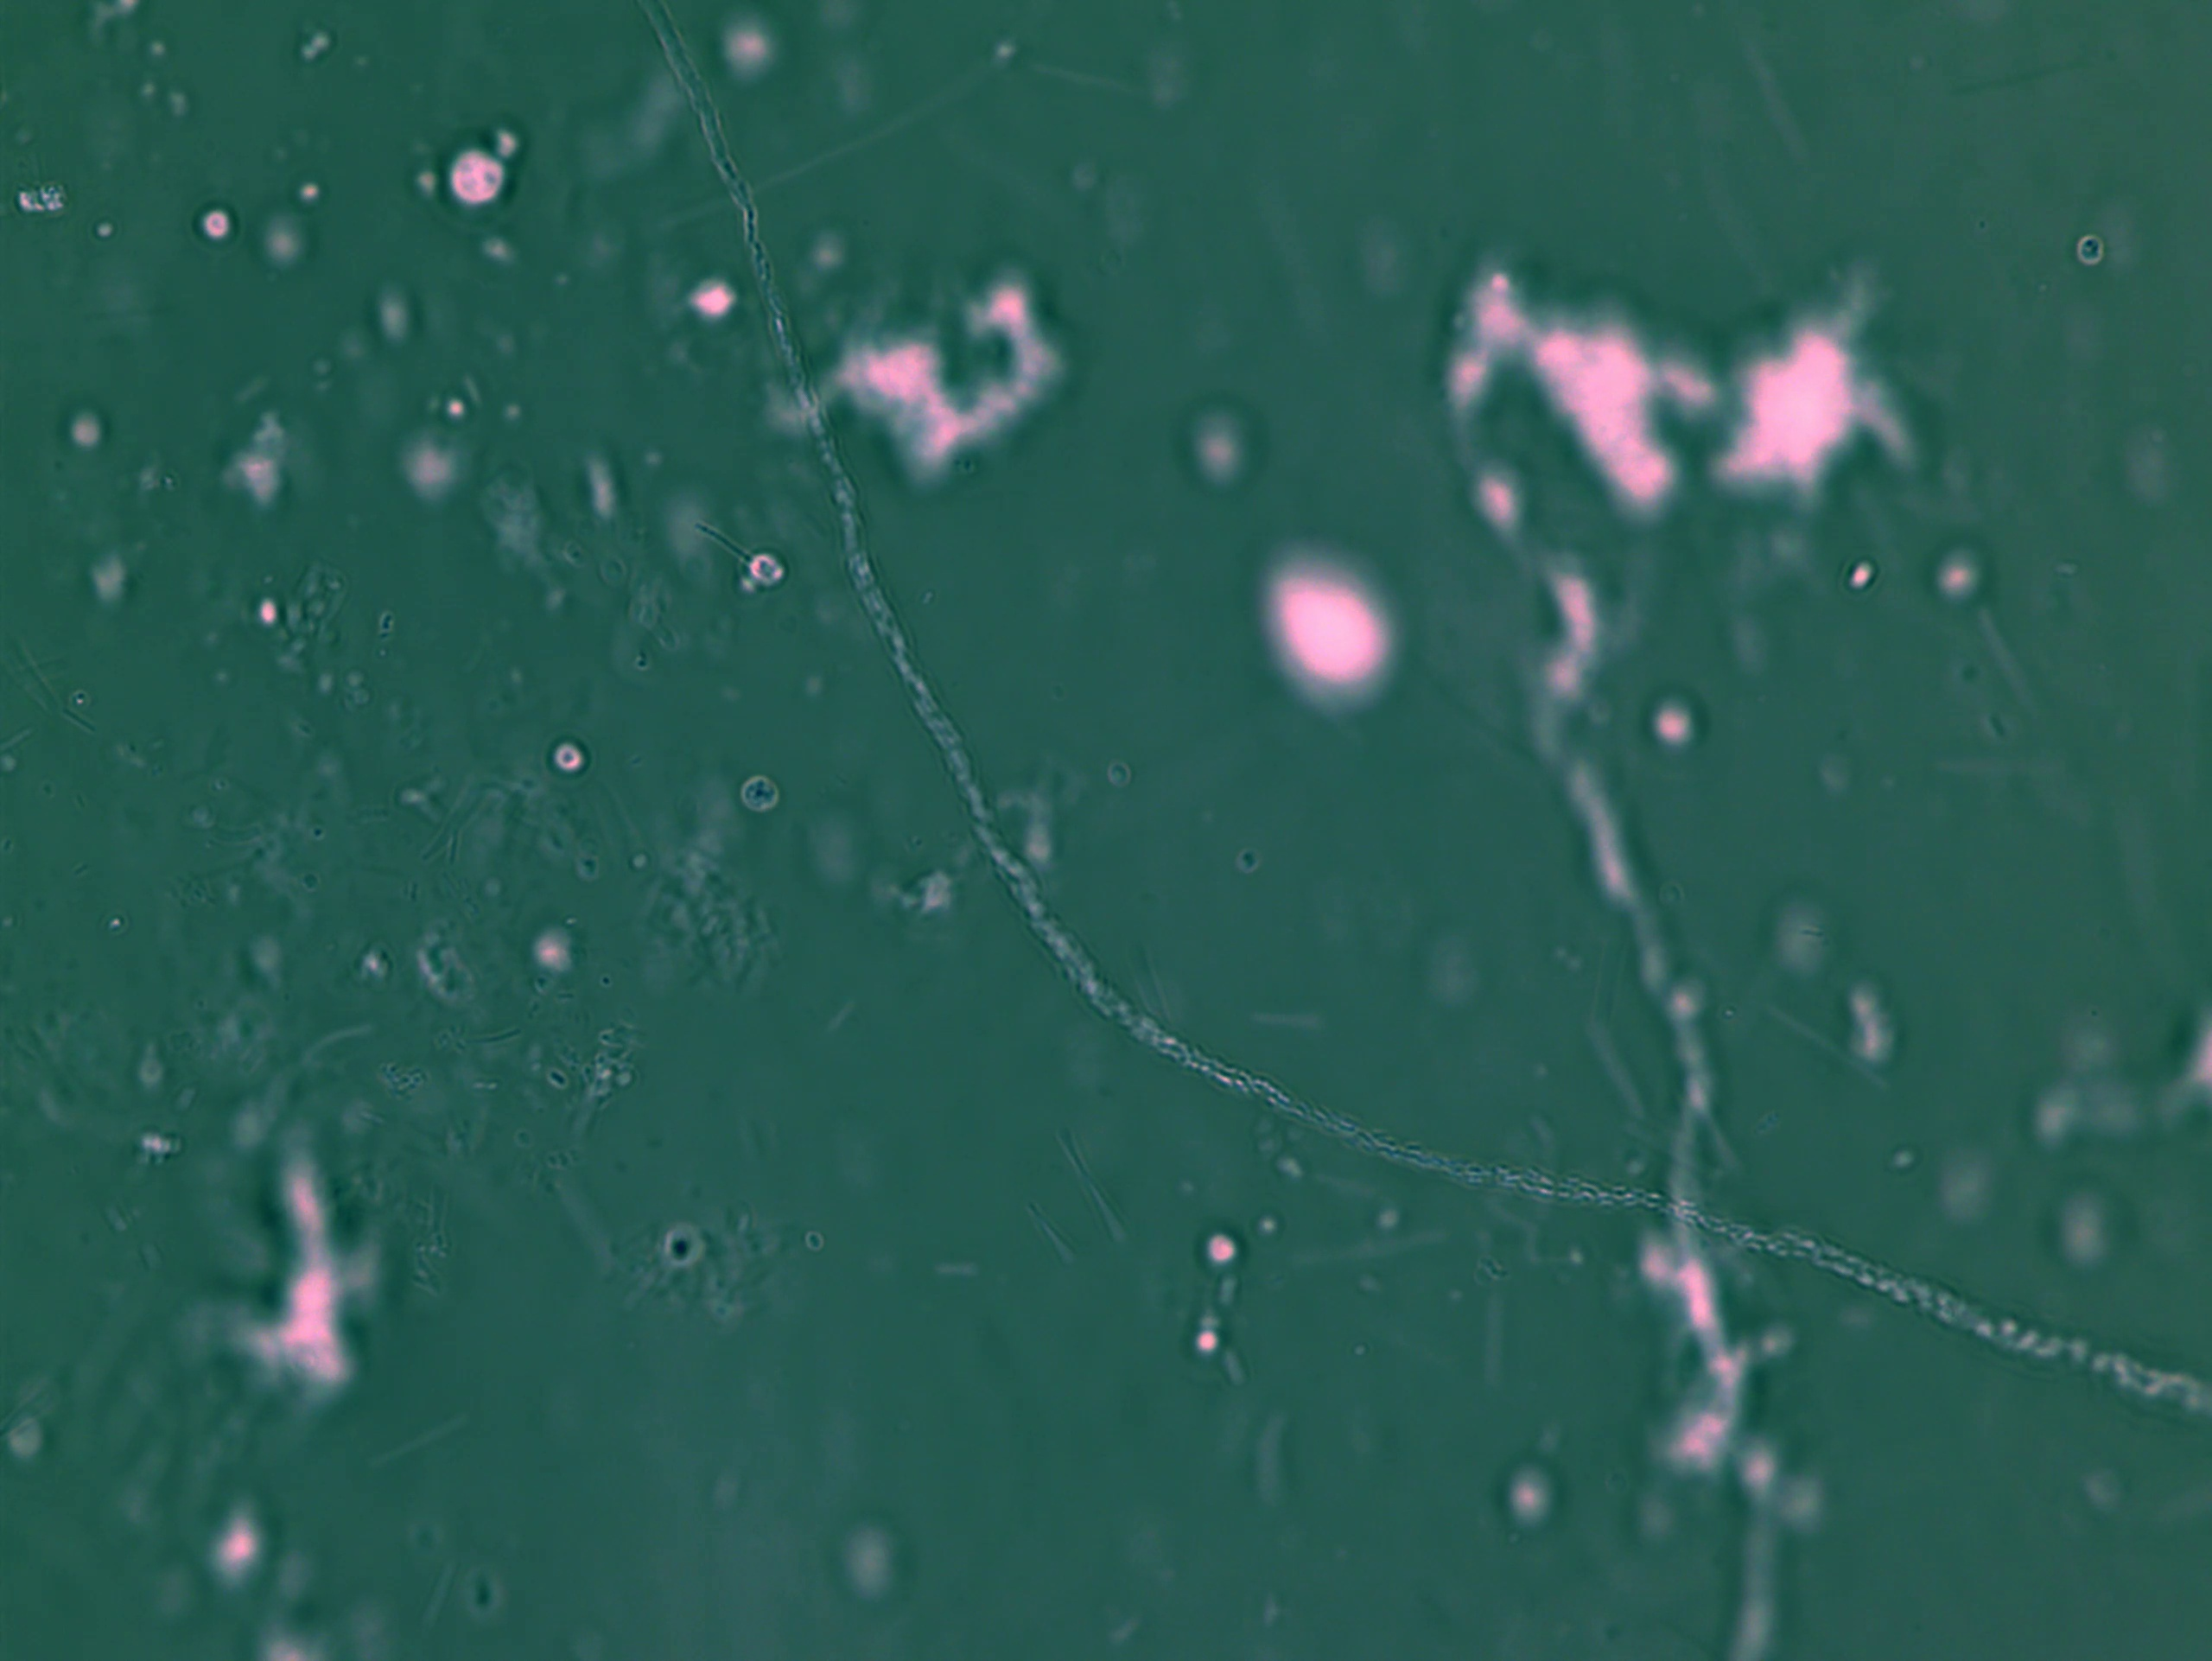depth:100: (1225, 541, 1446, 743)
